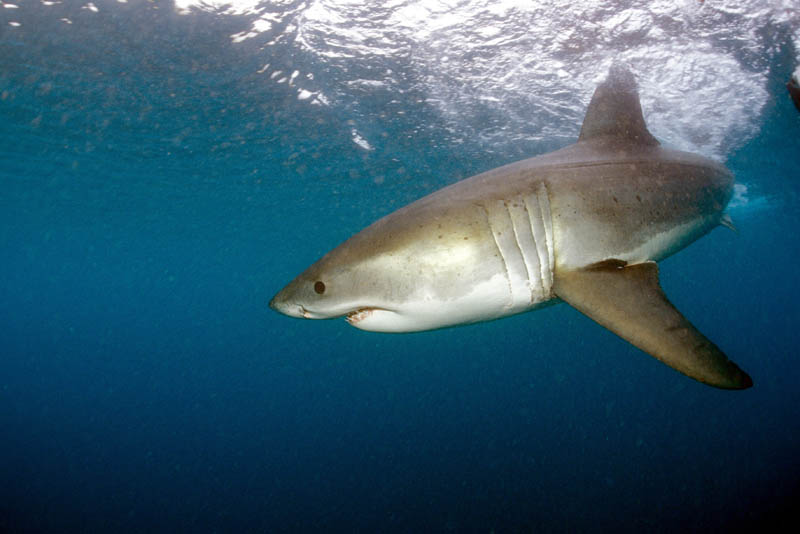Carcharodon_carcharias: (230, 71, 782, 397)
